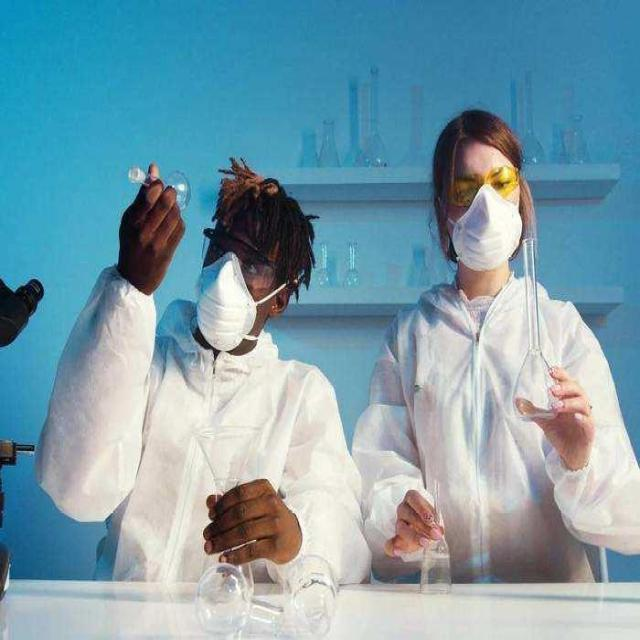Coverall: (63, 129, 343, 594), (390, 122, 614, 592)
Goggles: (196, 224, 278, 294), (439, 159, 522, 203)
Mask: (446, 178, 540, 271), (193, 244, 260, 350)
